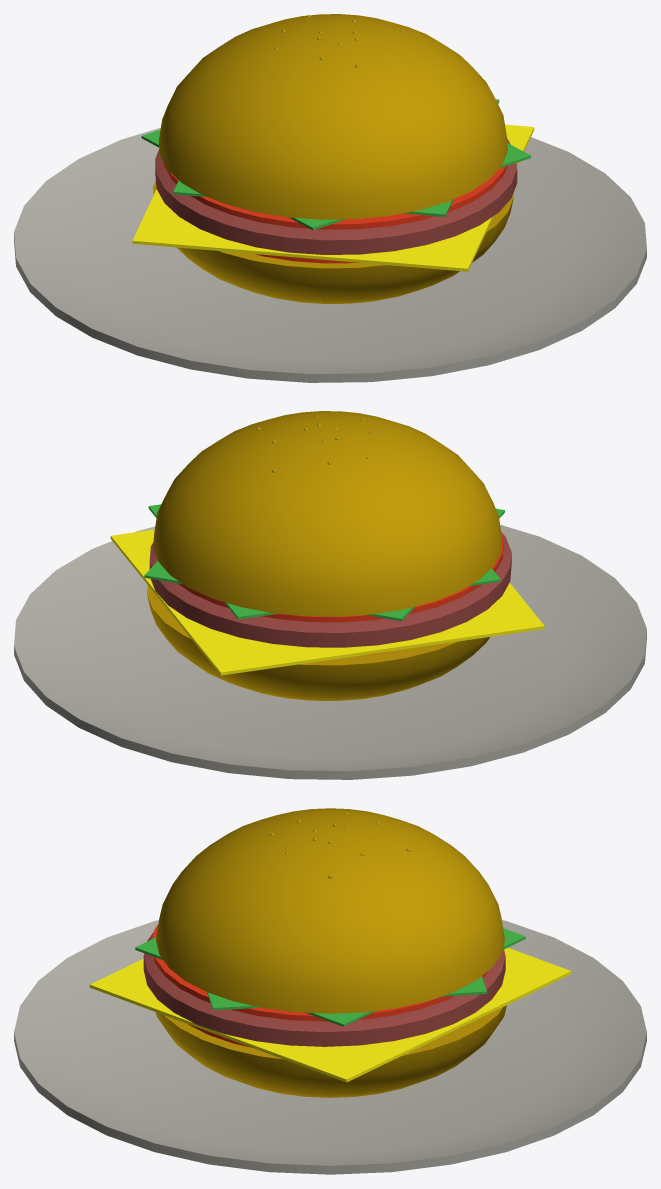
File: cheeseburger_-_low_poly.glb
The picture shows the model from 3 angles, top to bottom: view 1: azimuth 30°, elevation 25°; view 2: azimuth 150°, elevation 25°; view 3: azimuth 270°, elevation 25°; orthographic projection.
Visible parts, largest first — view 1: Plate, UpBread, Meat, DownBread, Cheese, Tomato, Leaf; view 2: Plate, UpBread, DownBread, Meat, Cheese, Tomato, Leaf; view 3: Plate, UpBread, DownBread, Meat, Cheese, Tomato, Leaf.
Part boxes in pixels (left/top/right/bottom): Plate: left=14, top=127, right=646, bottom=382; UpBread: left=158, top=14, right=507, bottom=219; Meat: left=155, top=138, right=517, bottom=254; DownBread: left=152, top=180, right=513, bottom=303; Cheese: left=132, top=124, right=534, bottom=271; Tomato: left=164, top=139, right=508, bottom=229; Leaf: left=141, top=99, right=530, bottom=230; Plate: left=14, top=524, right=646, bottom=779; UpBread: left=153, top=411, right=502, bottom=616; DownBread: left=147, top=585, right=489, bottom=700; Meat: left=149, top=532, right=511, bottom=647; Cheese: left=110, top=529, right=544, bottom=675; Tomato: left=177, top=534, right=503, bottom=622; Leaf: left=144, top=504, right=504, bottom=621; Plate: left=14, top=920, right=646, bottom=1174; UpBread: left=156, top=808, right=504, bottom=1013; DownBread: left=155, top=1005, right=506, bottom=1097; Meat: left=143, top=932, right=505, bottom=1046; Cheese: left=89, top=947, right=571, bottom=1082; Tomato: left=152, top=924, right=488, bottom=1021; Leaf: left=135, top=928, right=525, bottom=1026.
Bounding box in the file's own units: 5.26 × 2.23 × 5.26.
9 materials, 9 textured.
